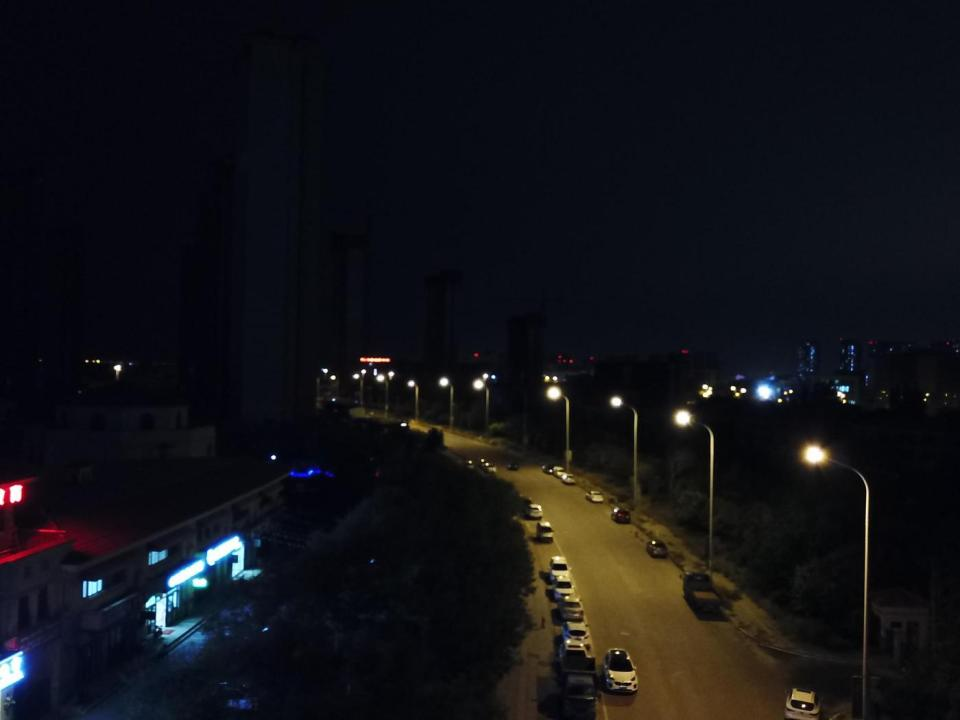car: (193, 678, 256, 709), (600, 647, 640, 694), (780, 682, 825, 720), (557, 640, 592, 667), (556, 595, 588, 622), (562, 618, 592, 644), (546, 555, 572, 581), (550, 574, 574, 601), (534, 520, 556, 544), (645, 539, 667, 559), (610, 506, 633, 524), (523, 501, 543, 518), (586, 489, 603, 503), (553, 464, 568, 479), (561, 471, 576, 484), (506, 460, 522, 471), (542, 463, 557, 474), (485, 462, 500, 473), (463, 459, 476, 470), (480, 457, 490, 467)
truck: (558, 655, 601, 720), (680, 570, 726, 612)
